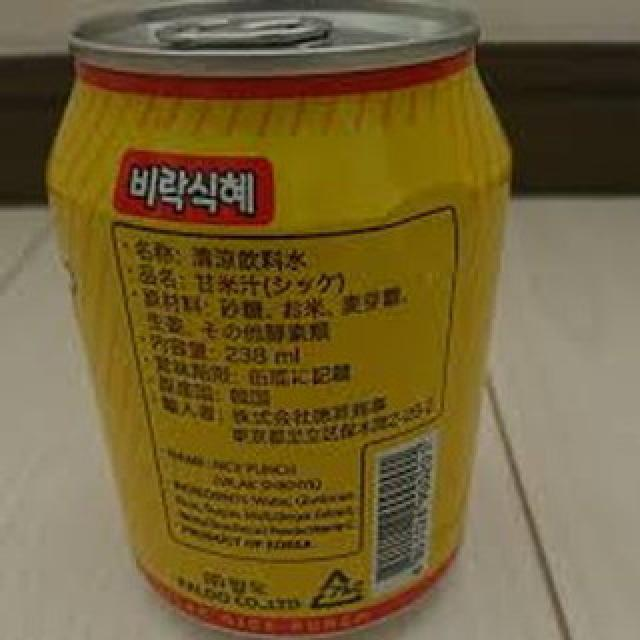Anorganik: (44, 0, 518, 640)
